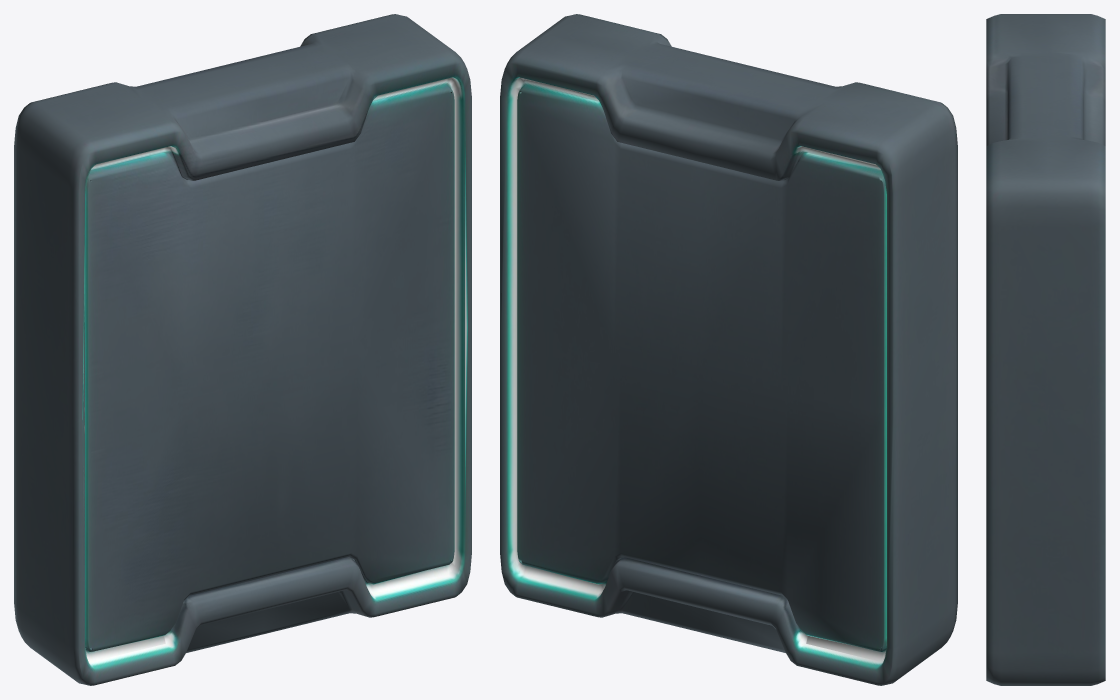
The model's file is bridge_screen.optimized.glb.
The picture shows the model from 3 angles, left to right: view 1: azimuth 30°, elevation 25°; view 2: azimuth 150°, elevation 25°; view 3: azimuth 270°, elevation 25°; orthographic projection. The views are drawn at different scales.
Visible parts, largest first — view 1: tripo_node_5cc10ef4-1daa-465c-8519-37e738f16fcb; view 2: tripo_node_5cc10ef4-1daa-465c-8519-37e738f16fcb; view 3: tripo_node_5cc10ef4-1daa-465c-8519-37e738f16fcb.
Part boxes in pixels (box(x1,y1,x2,y2)): tripo_node_5cc10ef4-1daa-465c-8519-37e738f16fcb: box(14, 14, 471, 685); tripo_node_5cc10ef4-1daa-465c-8519-37e738f16fcb: box(500, 14, 957, 685); tripo_node_5cc10ef4-1daa-465c-8519-37e738f16fcb: box(986, 14, 1105, 685).
Size of the model in its own units: 15411 by 20264 by 4307.
1 material, 1 textured.
